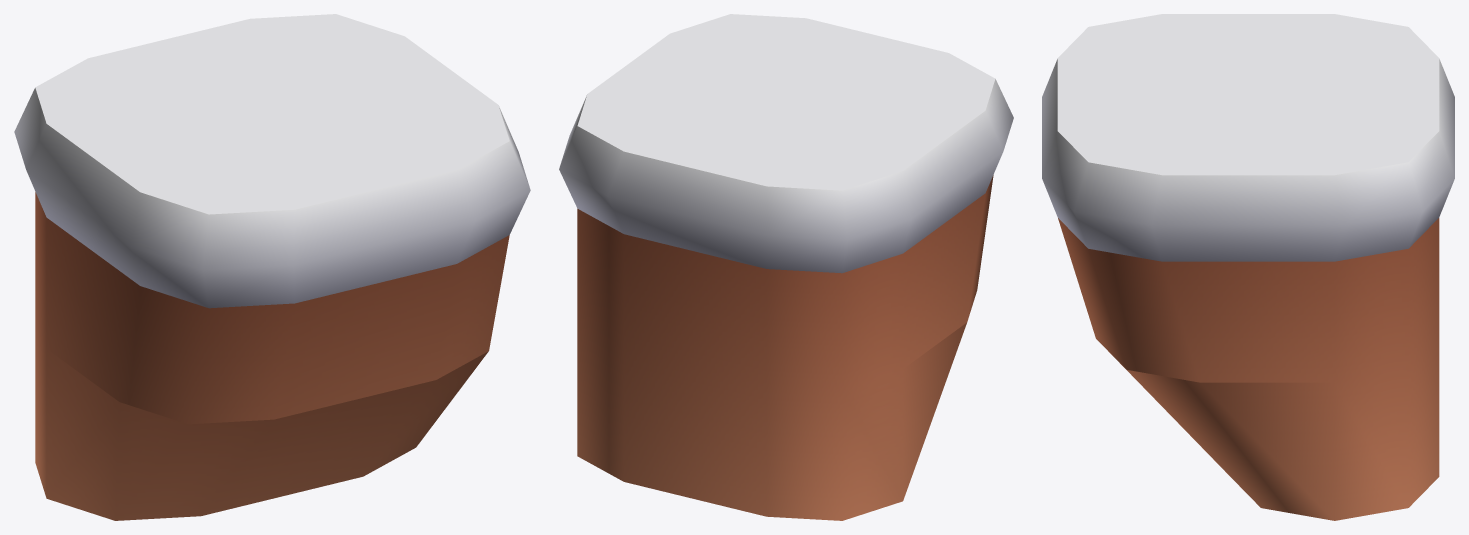
The model's file is block-snow-edge.glb.
3 renders of one model, left to right at view 1: azimuth 30°, elevation 25°; view 2: azimuth 150°, elevation 25°; view 3: azimuth 270°, elevation 25°, orthographic. The views are drawn at different scales.
Parts seen in each view (by area): view 1: block-snow-edge; view 2: block-snow-edge; view 3: block-snow-edge.
Part boxes in pixels (bbox=[...]): block-snow-edge: bbox=[14, 14, 530, 520]; block-snow-edge: bbox=[559, 14, 1013, 520]; block-snow-edge: bbox=[1042, 14, 1454, 520].
Bounding box in the file's own units: 1.08 × 1 × 1.08.
Materials: 1 (1 with a texture image).
